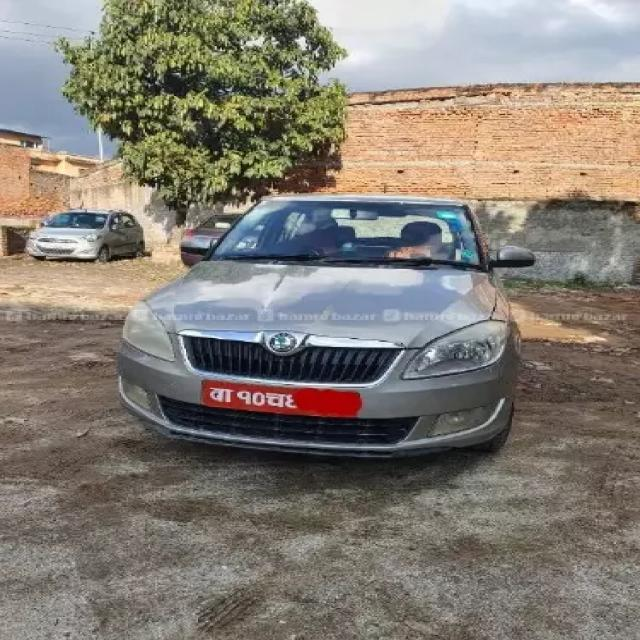License-plate: (192, 375, 366, 411)
